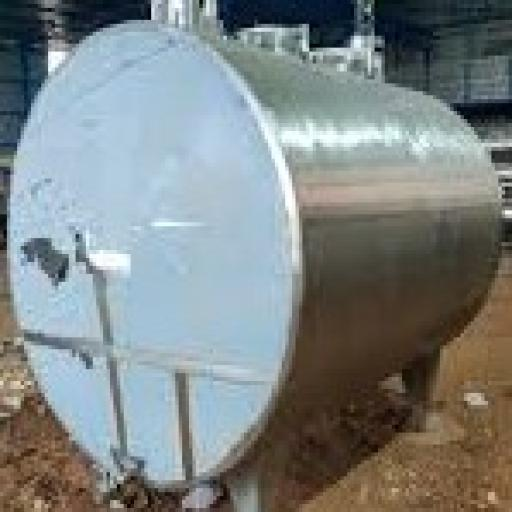silo: (9, 14, 504, 489)
